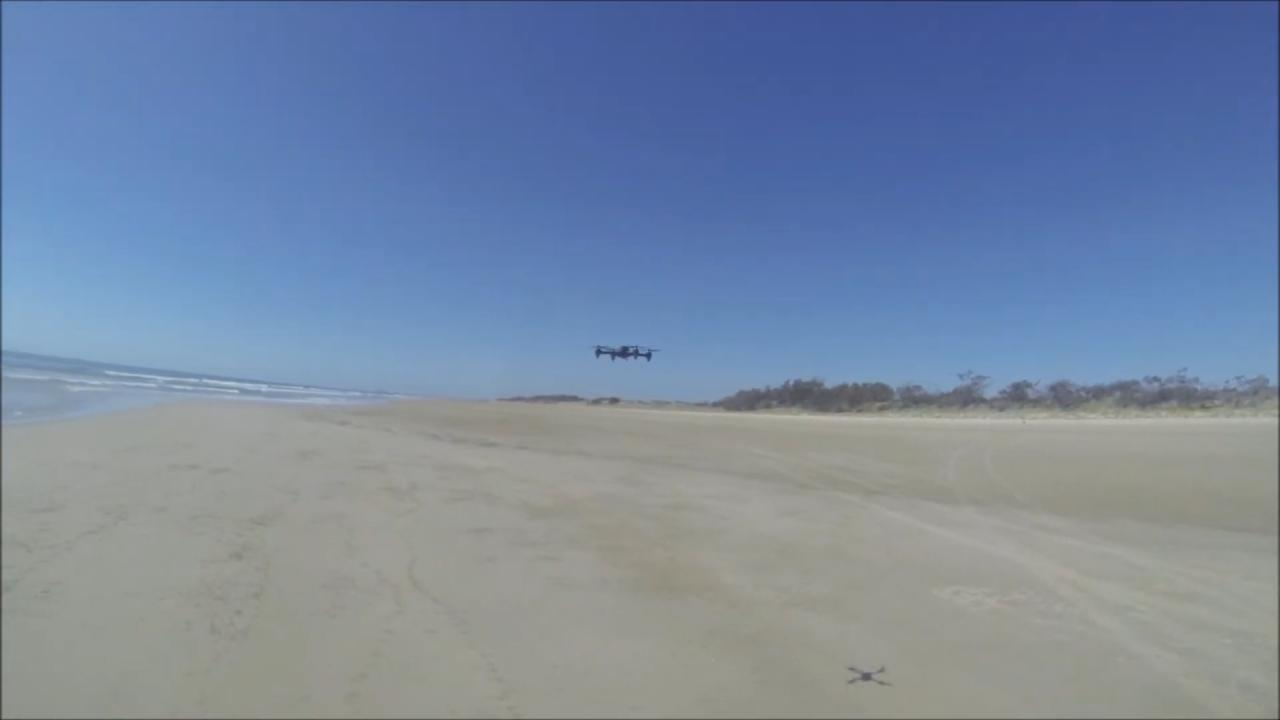Drone: (584, 336, 666, 371)
